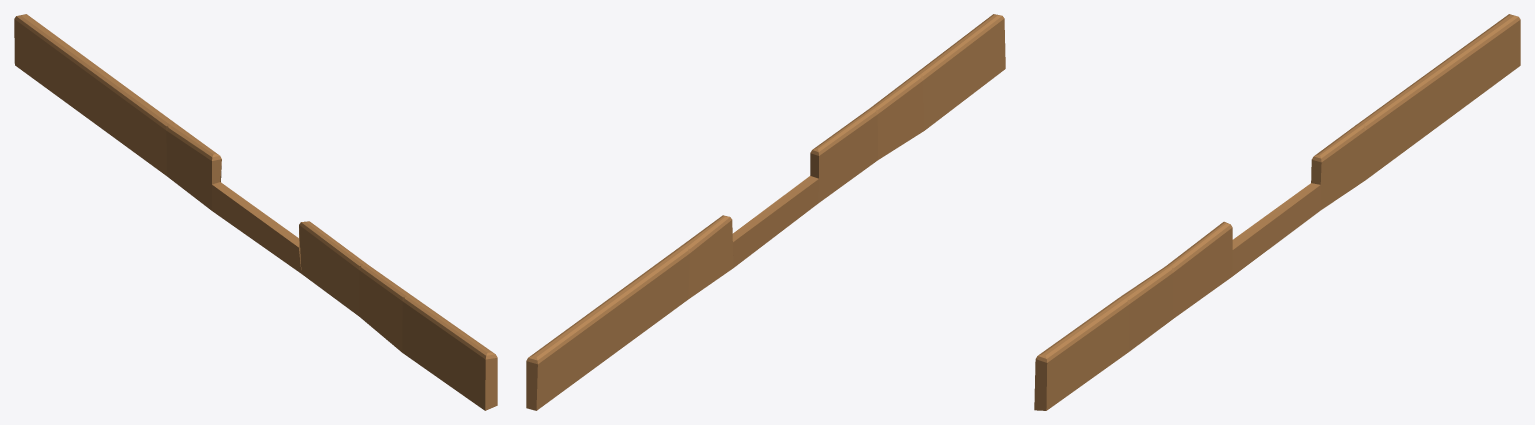
Rendered from Wood_Beam_Side_Open.fbx.
The picture shows the model from 3 angles, left to right: view 1: azimuth 30°, elevation 25°; view 2: azimuth 150°, elevation 25°; view 3: azimuth 330°, elevation 25°; orthographic projection.
Visible parts, largest first — view 1: Wood_Beam_Side_Open; view 2: Wood_Beam_Side_Open; view 3: Wood_Beam_Side_Open.
Boxes of the visible parts, x1,y1,x2,y2 form: Wood_Beam_Side_Open: (14,14,497,410); Wood_Beam_Side_Open: (526,14,1005,410); Wood_Beam_Side_Open: (1034,14,1520,410).
Size of the model in its own units: 3202 by 51.85 by 213.
